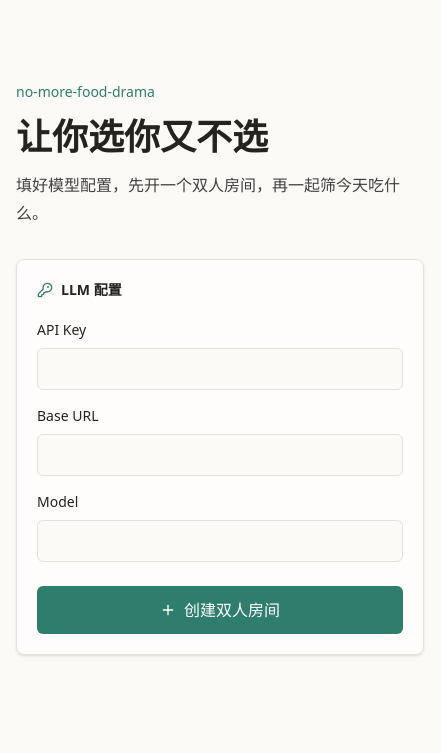
Scenario: HomePage › does not save LLM config when room creation fails
Type "sk-test" into the password field labelled "API Key". click: [220, 368]
box: [37,348,403,390]
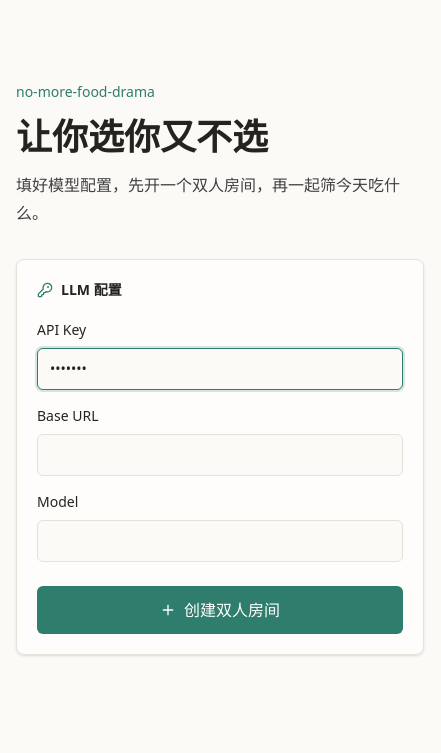
Type "https://api.example.com/v1" into the field labelled "Base URL". click: [220, 454]
box: [37,434,403,476]
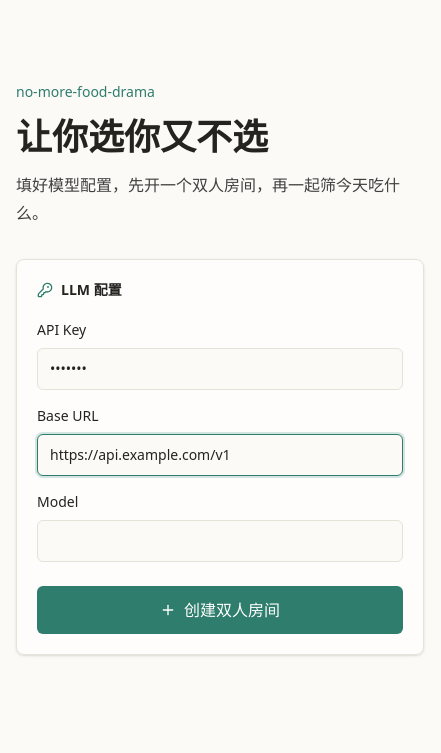
Type "deepseek-chat" into the field labelled "Model". click: [220, 540]
box: [37,520,403,562]
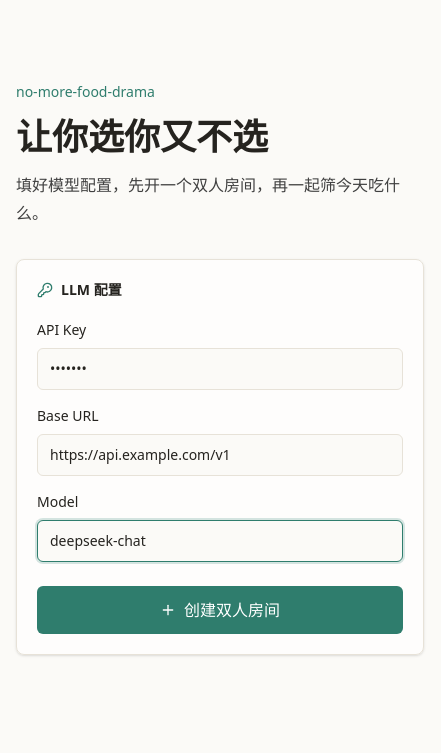
Click the button "创建双人房间". click: [220, 610]
box: [37,586,403,634]
(page scrolled)
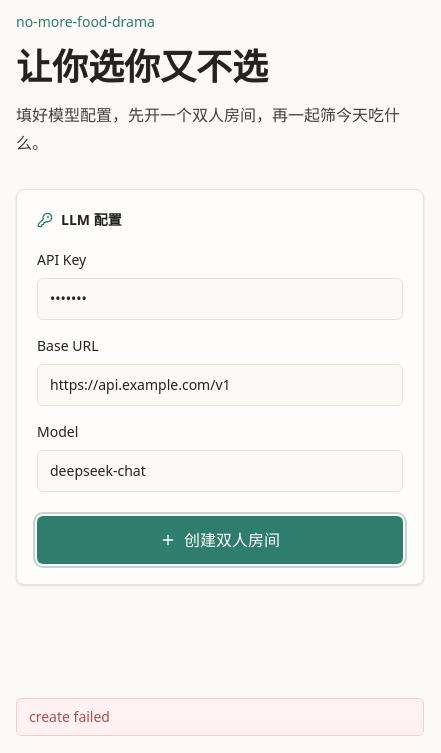
Now the text "create failed" is shown, box [16,698,424,736]
